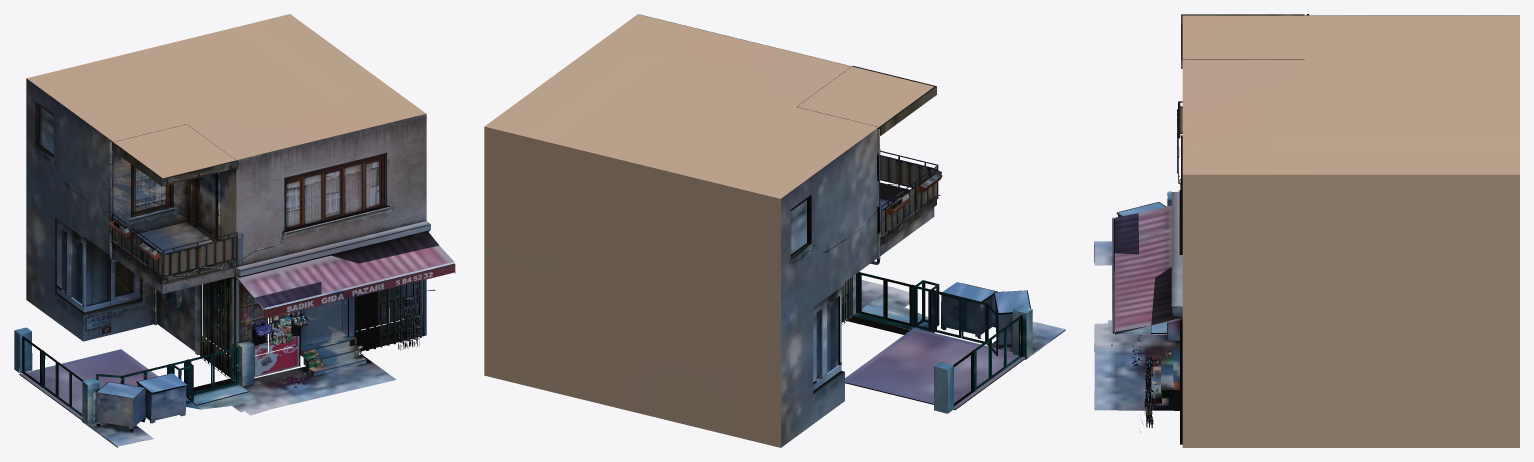
Rendered from bakkal.glb.
3 views of the same model, side by side, from view 1: azimuth 30°, elevation 25°; view 2: azimuth 150°, elevation 25°; view 3: azimuth 270°, elevation 25° (orthographic). The views are drawn at different scales.
Visible parts, largest first — view 1: bakkal; view 2: bakkal; view 3: bakkal.
Boxes of the visible parts, bbox=[...] form: bakkal: bbox=[14, 14, 455, 447]; bakkal: bbox=[484, 14, 1065, 447]; bakkal: bbox=[1094, 14, 1519, 447].
Size of the model in its own units: 5.24 by 3.25 by 4.53.
1 material, 1 textured.
